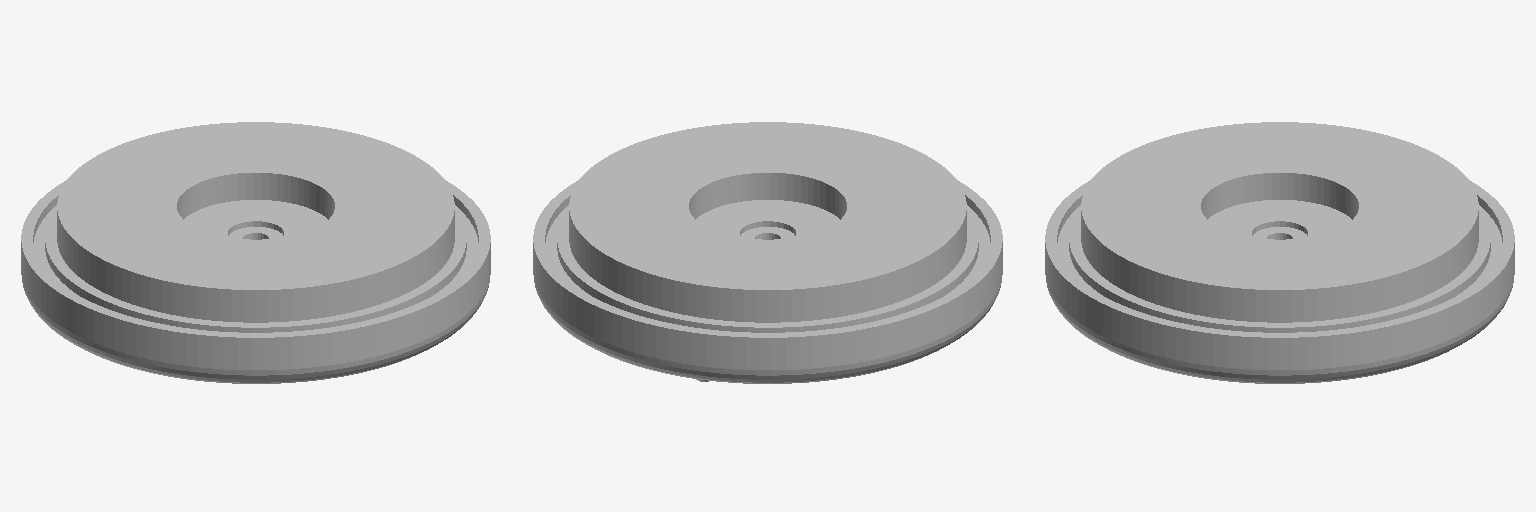
The model's file is ODial.obj.
3 views of the same model, side by side, from view 1: azimuth 30°, elevation 25°; view 2: azimuth 150°, elevation 25°; view 3: azimuth 270°, elevation 25° (orthographic).
Bounding box in the file's own units: 39.25 × 9.2 × 39.23.